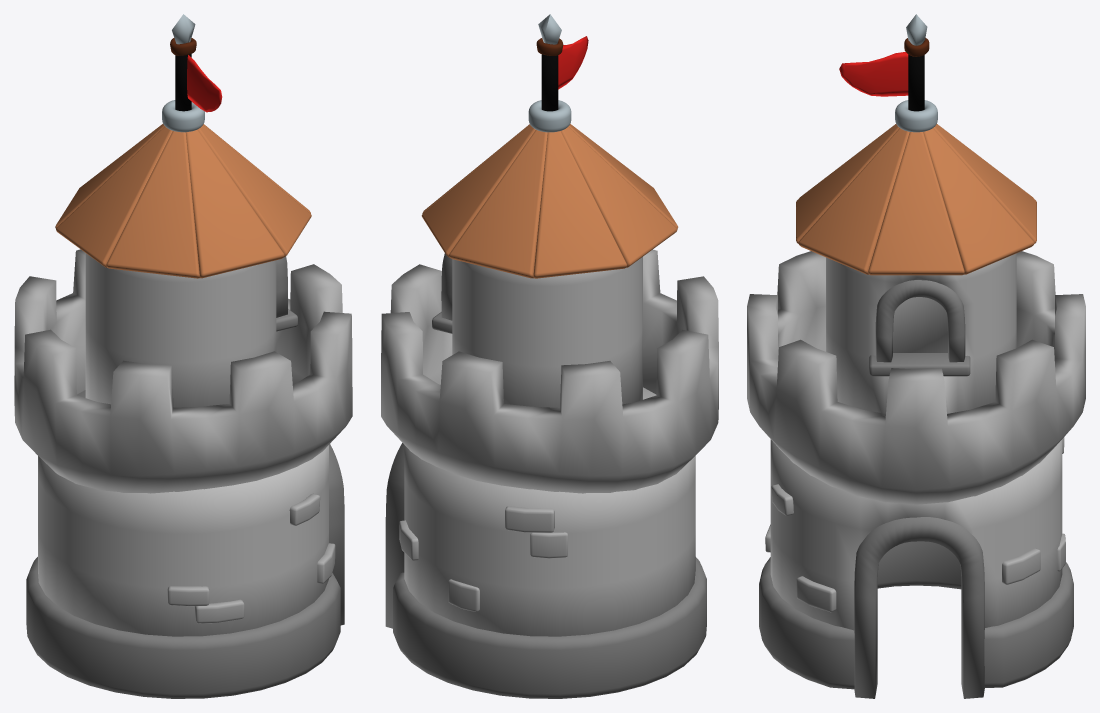
The model's file is castle.glb.
3 renders of one model, left to right at view 1: azimuth 30°, elevation 25°; view 2: azimuth 150°, elevation 25°; view 3: azimuth 270°, elevation 25°, orthographic.
Visible parts, largest first — view 1: castle_dungeon; view 2: castle_dungeon; view 3: castle_dungeon.
Part boxes in pixels (x1=…): castle_dungeon: x1=14, y1=14, x2=352, y2=698; castle_dungeon: x1=381, y1=14, x2=718, y2=698; castle_dungeon: x1=747, y1=14, x2=1085, y2=698.
Bounding box in the file's own units: 14.1 × 28.57 × 14.11.
